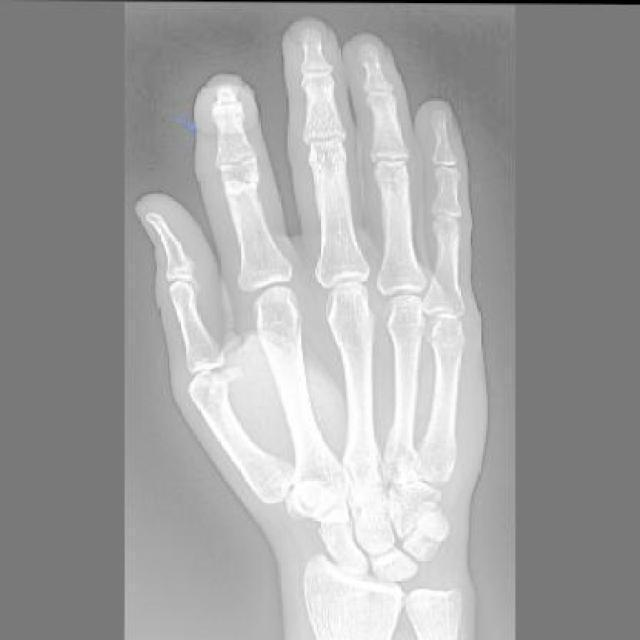Fracture: (217, 162, 263, 193)
